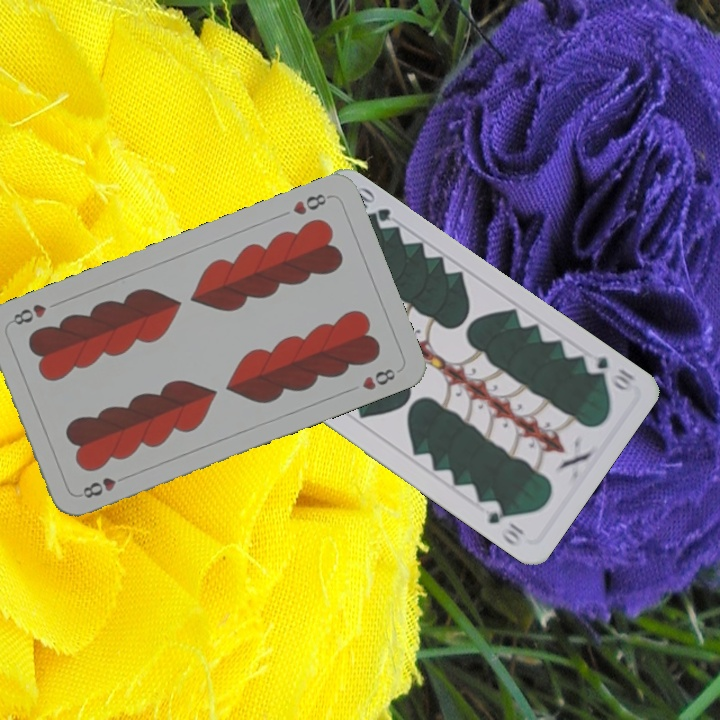G10: (580, 349, 638, 394)
H8: (75, 470, 132, 501), (288, 189, 333, 218)
